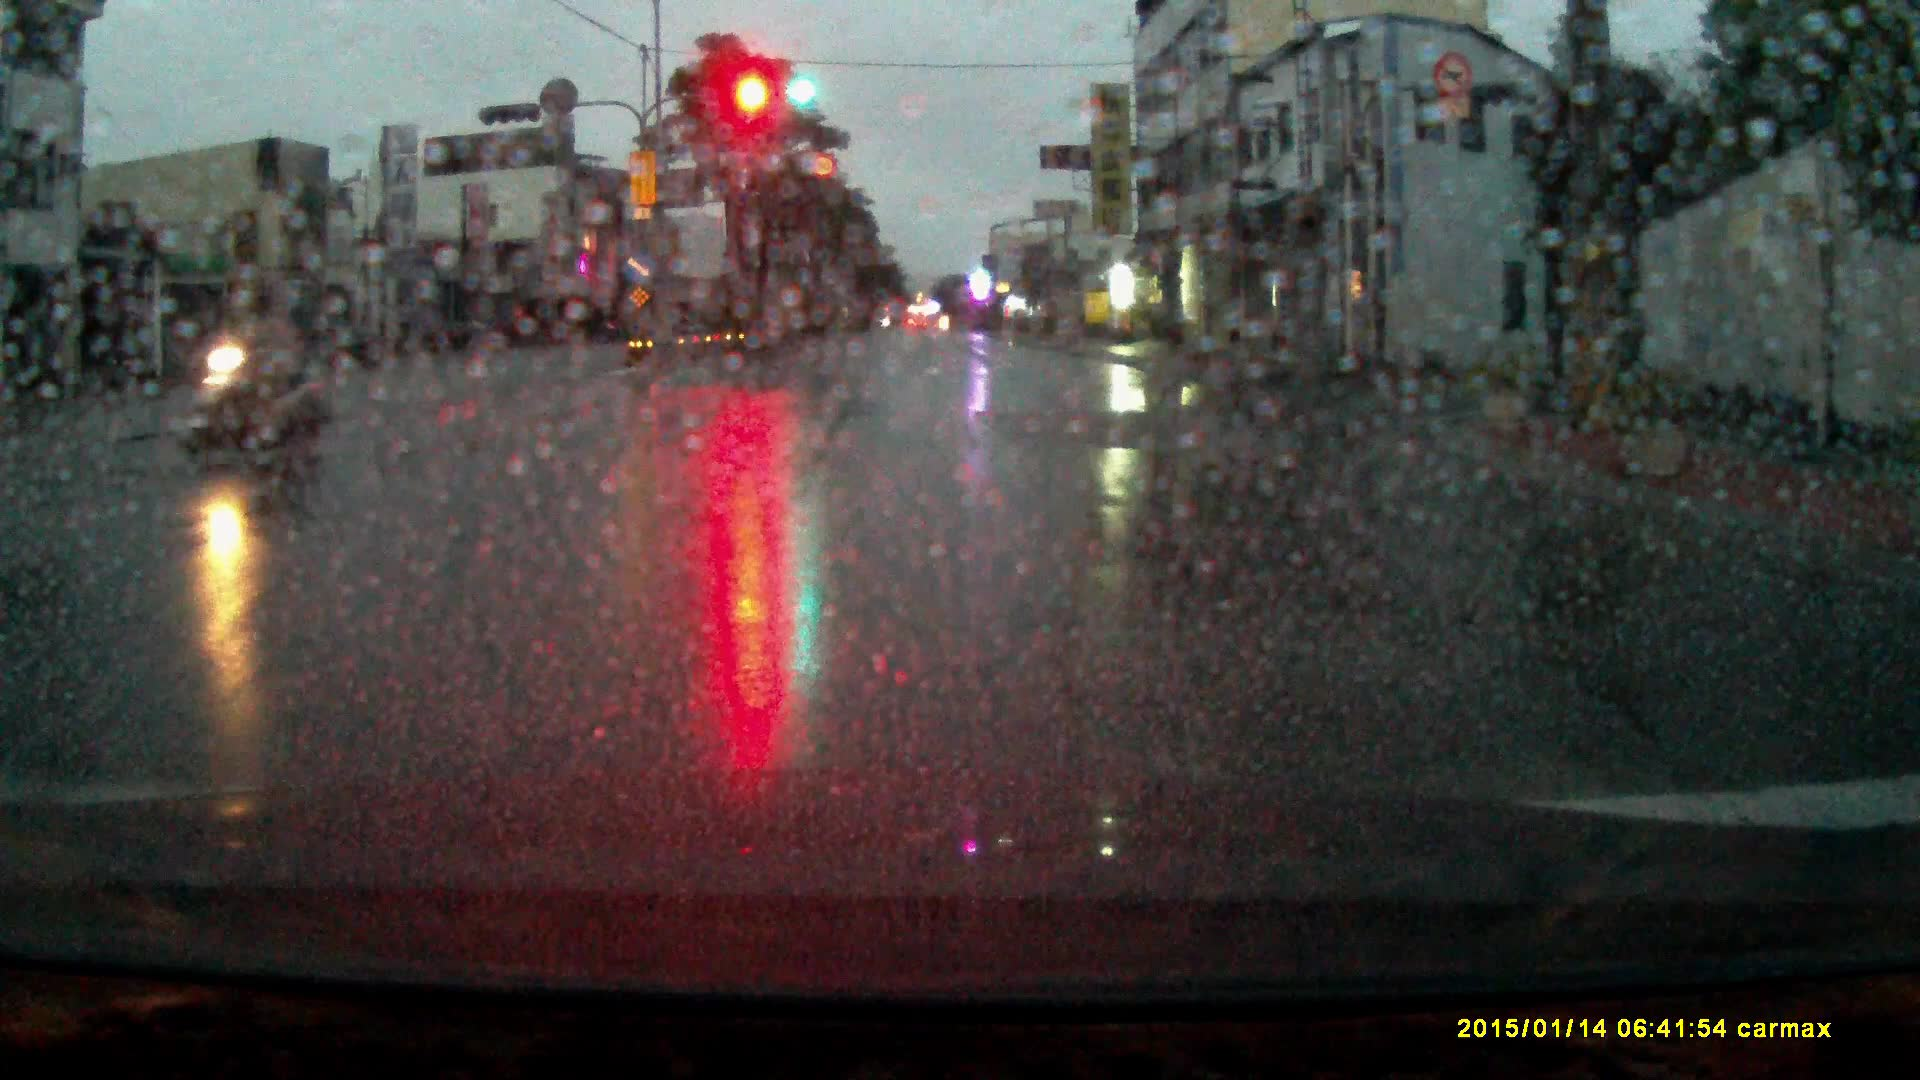rider: (172, 279, 326, 472)
